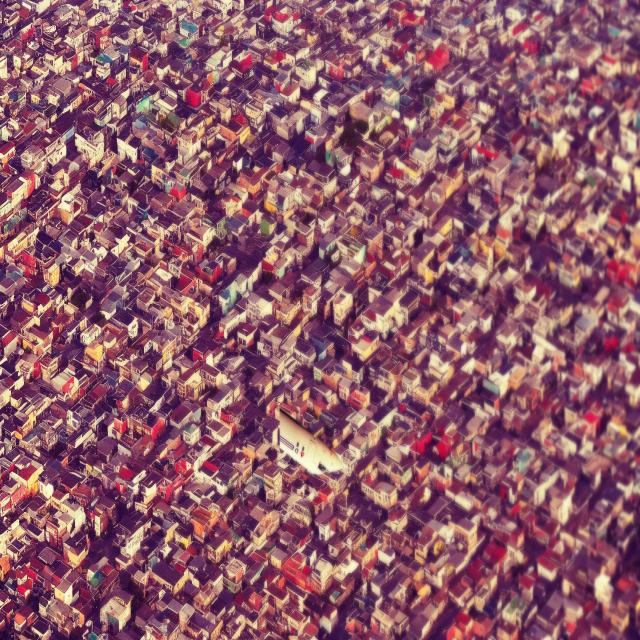airplane: (278, 409, 345, 478)
